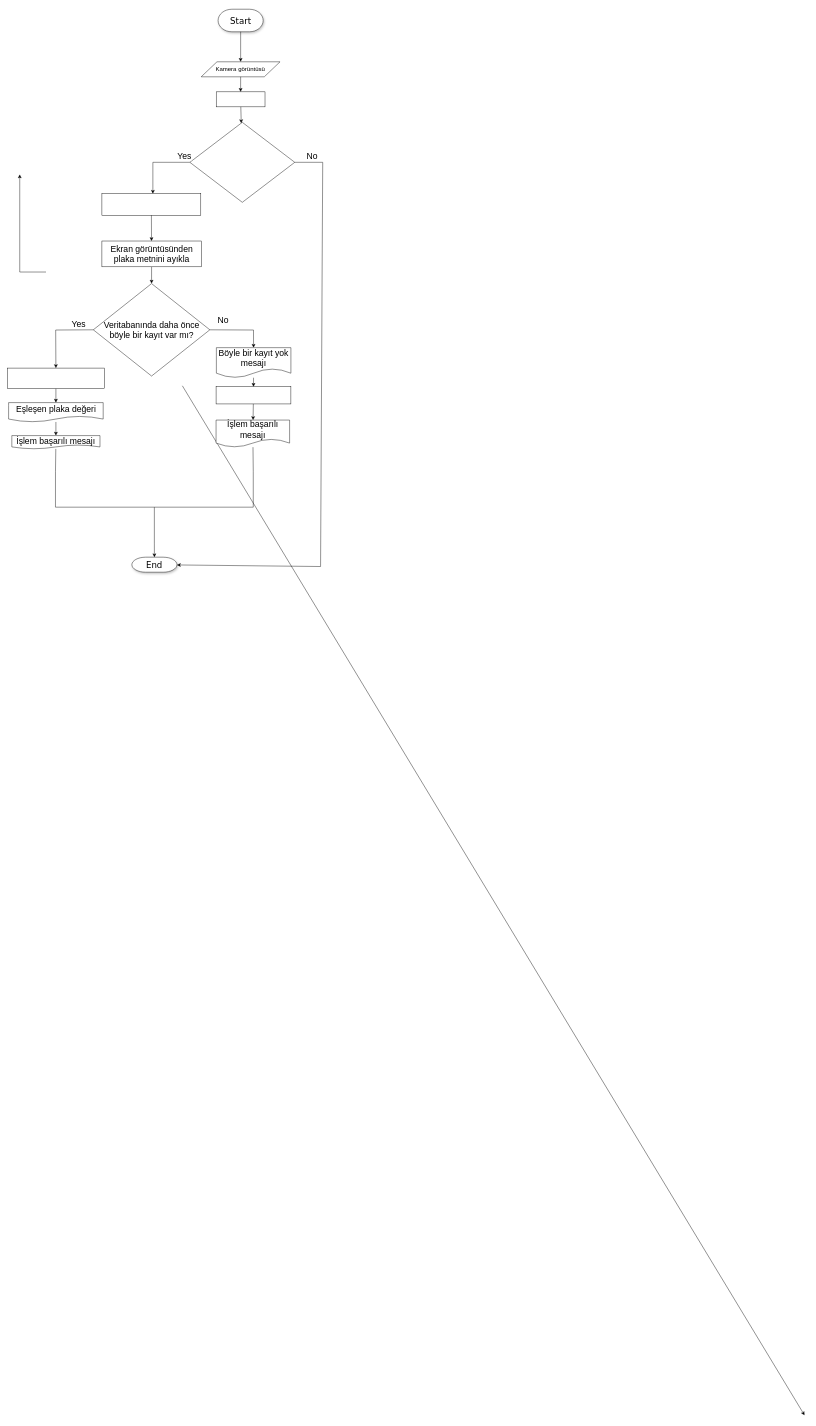
This 816x1426 diagram has some shape labels left out. The centre of each missing label's shape, as x and y in pixels:
Kamera görüntüsünün ekran görüntüsünü al: [151,204]
Plaka Alanını Seç: [240,99]
Plaka okunuyor mu?: [242,162]
Veritabanıyla eşleşeşen değeri getir: [55,378]
Yeni plaka kaydı ekle: [253,395]
